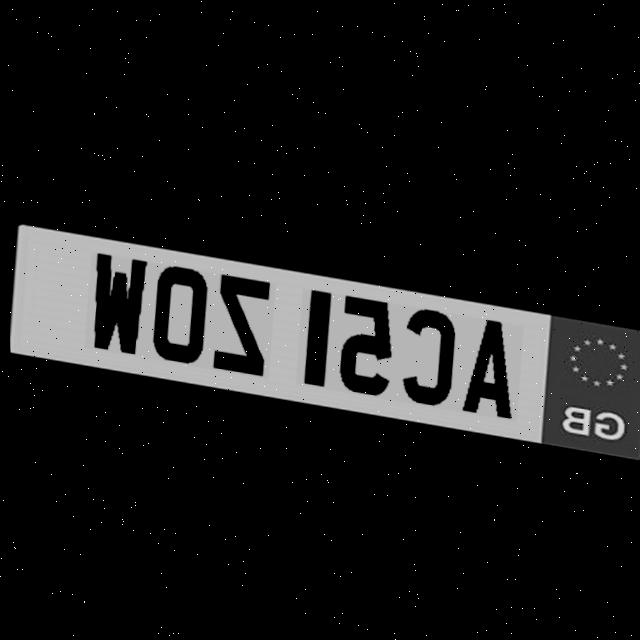license-plates: (9, 223, 640, 459)
